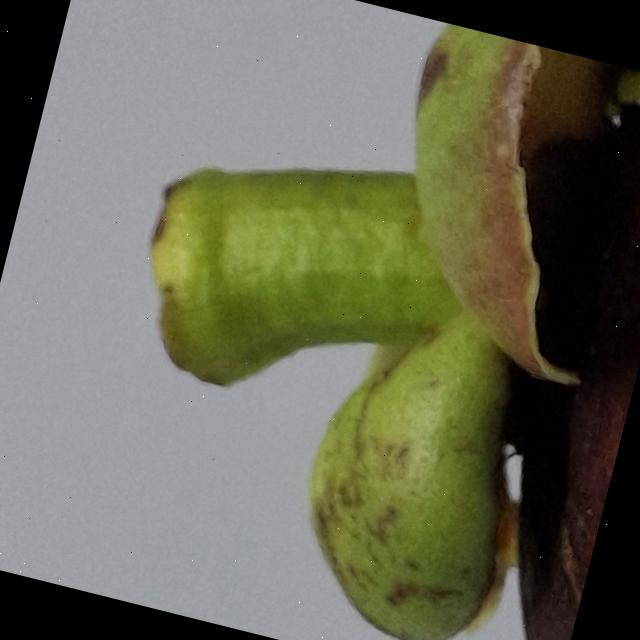mangosteen: (58, 0, 640, 640)
